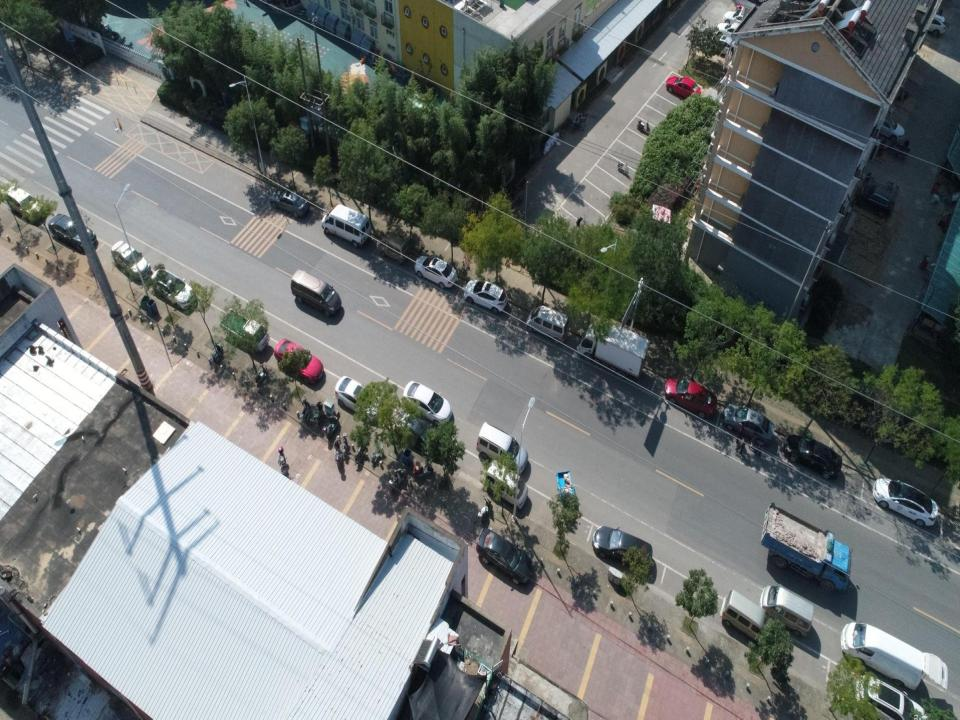car: (873, 475, 938, 531), (477, 527, 534, 586), (592, 524, 654, 575), (783, 431, 843, 481), (721, 402, 776, 448), (274, 337, 324, 387), (663, 374, 718, 419), (403, 380, 454, 428), (334, 375, 382, 424), (48, 212, 98, 255), (151, 267, 196, 311), (852, 174, 895, 218), (111, 238, 152, 282), (463, 278, 508, 317), (413, 253, 459, 291), (6, 184, 46, 225), (268, 182, 311, 220), (874, 112, 908, 144), (665, 74, 701, 102), (918, 11, 946, 39), (715, 21, 748, 40), (723, 8, 753, 27)
truck: (760, 501, 854, 594), (576, 316, 650, 382), (220, 308, 271, 355)
van: (838, 620, 949, 694), (854, 672, 925, 720), (759, 584, 814, 638), (476, 421, 529, 476), (719, 588, 769, 646), (290, 268, 342, 318), (320, 202, 372, 250), (485, 459, 529, 510), (525, 302, 570, 344), (376, 231, 410, 265)
